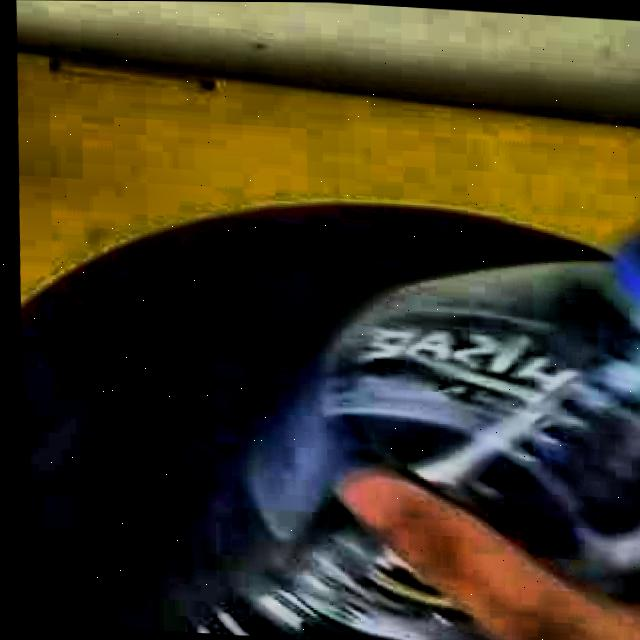plastic: (170, 232, 640, 640)
